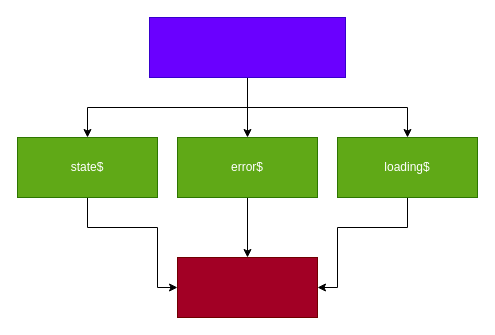
The diagram is 495 pixels wide and 335 high, and some of its shapes have lost their labels. Here are the shapes that lost their labels. From the top down, the centre of each, then its label:
(247,47): STORE
(247,287): Observer
